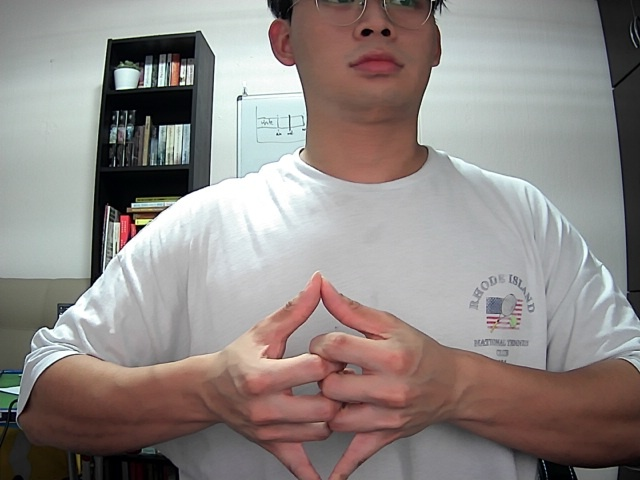Dragon: (187, 262, 462, 480)
